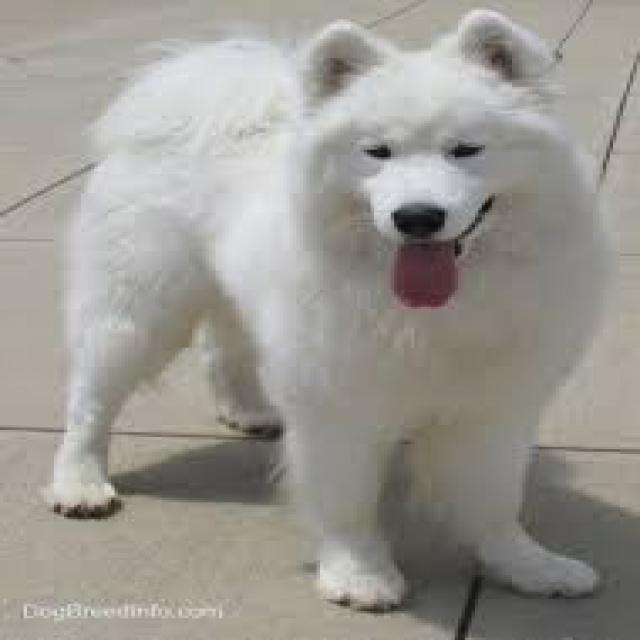dogs: (39, 8, 606, 613)
